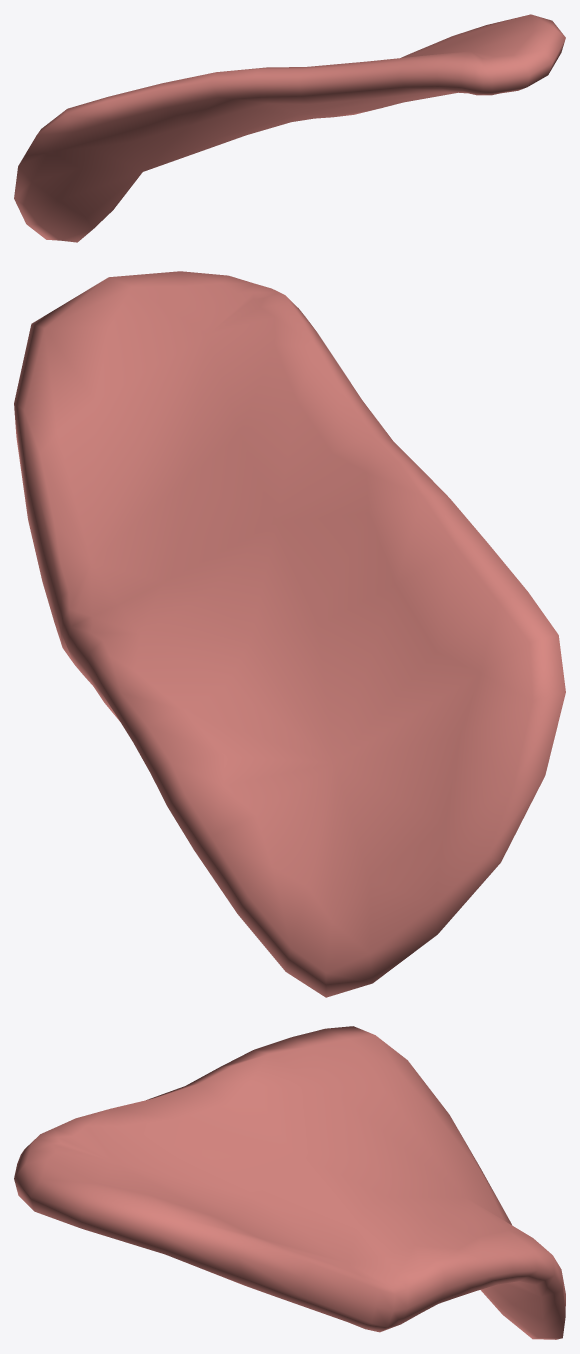
3 views of the same model, one above another, from view 1: azimuth 30°, elevation 25°; view 2: azimuth 150°, elevation 25°; view 3: azimuth 270°, elevation 25° (orthographic). The views are drawn at different scales.
Parts seen in each view (by area): view 1: ZA_eaaa269fca73ea45; view 2: ZA_eaaa269fca73ea45; view 3: ZA_eaaa269fca73ea45.
Boxes of the visible parts, x1=… form: ZA_eaaa269fca73ea45: x1=14, y1=14, x2=565, y2=242; ZA_eaaa269fca73ea45: x1=14, y1=271, x2=565, y2=997; ZA_eaaa269fca73ea45: x1=14, y1=1026, x2=565, y2=1339.
Size of the model in its own units: 0.0126 by 0.00729 by 0.0104.
